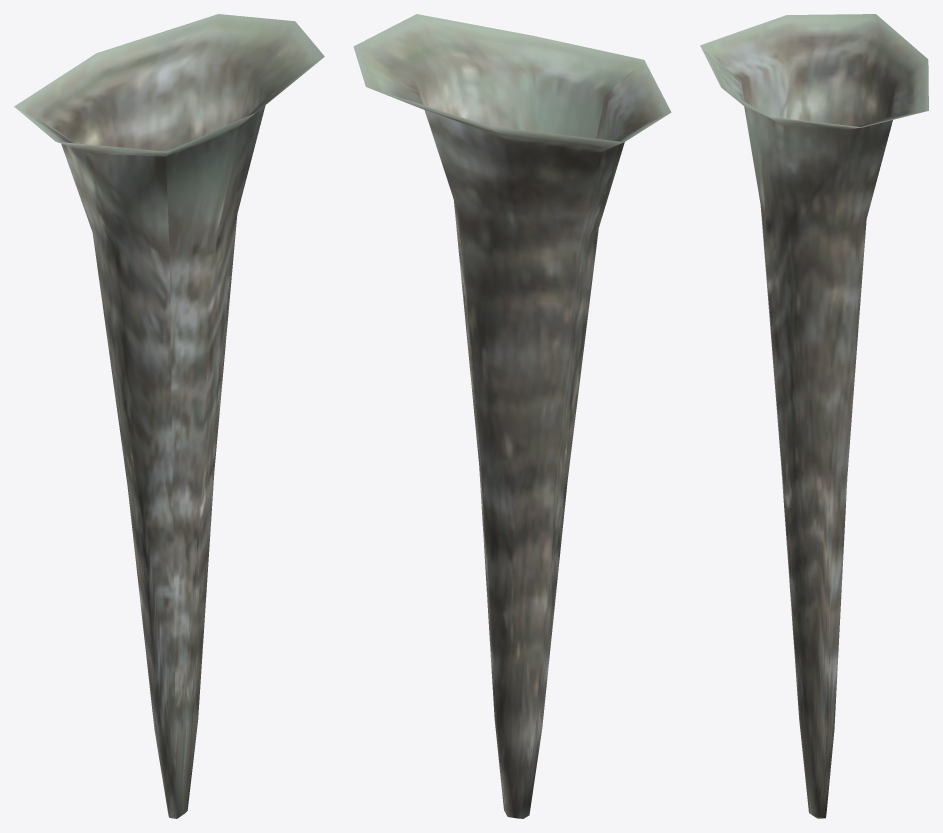
The model's file is TROLLHOLE02_PS-UPPERSTALAG11.fbx.
3 renders of one model, left to right at view 1: azimuth 30°, elevation 25°; view 2: azimuth 150°, elevation 25°; view 3: azimuth 270°, elevation 25°, orthographic.
Visible parts, largest first — view 1: TROLLHOLE02_PS-UPPERSTALAG11; view 2: TROLLHOLE02_PS-UPPERSTALAG11; view 3: TROLLHOLE02_PS-UPPERSTALAG11.
Part boxes in pixels (bbox=[...]): TROLLHOLE02_PS-UPPERSTALAG11: bbox=[14, 14, 324, 818]; TROLLHOLE02_PS-UPPERSTALAG11: bbox=[353, 14, 671, 818]; TROLLHOLE02_PS-UPPERSTALAG11: bbox=[700, 14, 928, 818].
Size of the model in its own units: 16972 by 43789 by 11905.
Materials: 1 (1 with a texture image).
